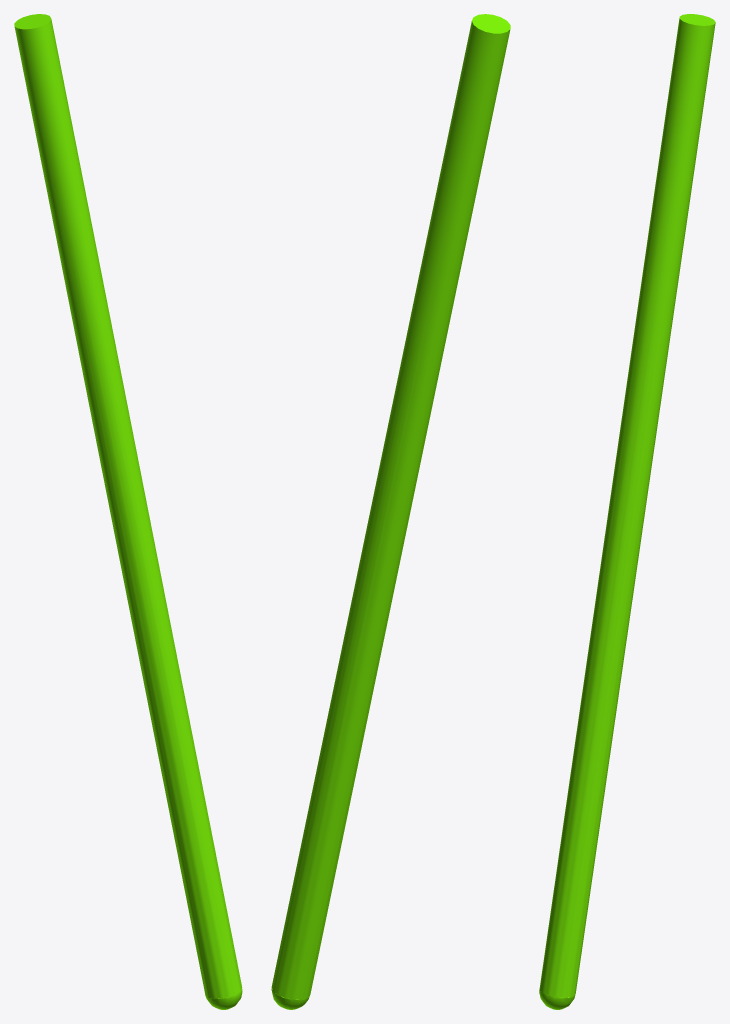
File: chair_026_05.obj
3 views of the same model, side by side, from view 1: azimuth 30°, elevation 25°; view 2: azimuth 210°, elevation 25°; view 3: azimuth 270°, elevation 25° (orthographic). The views are drawn at different scales.
Size of the model in its own units: 121 by 739 by 126.
